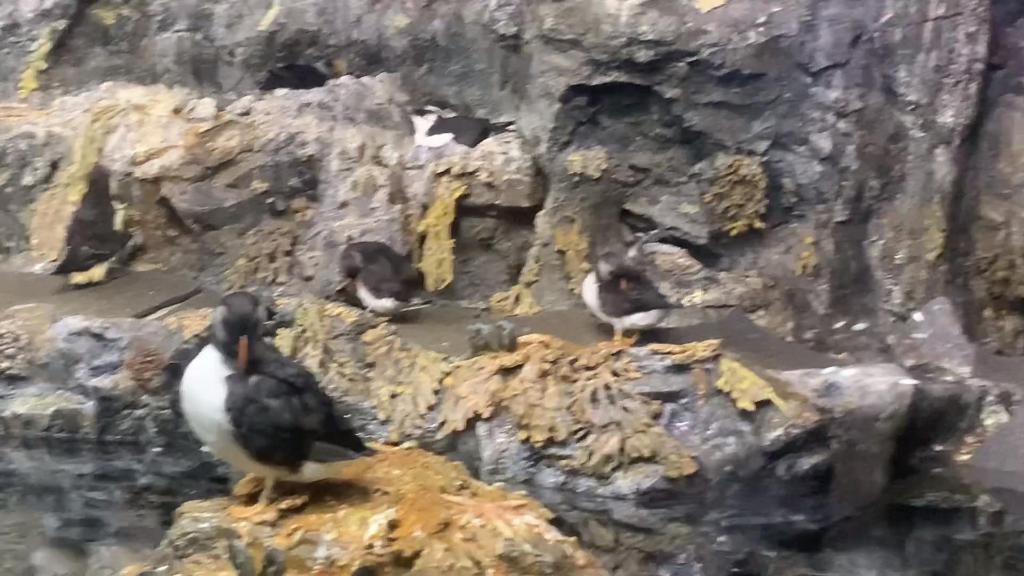puffin: (177, 289, 375, 521), (580, 250, 678, 352), (338, 240, 424, 320), (404, 104, 520, 150)
